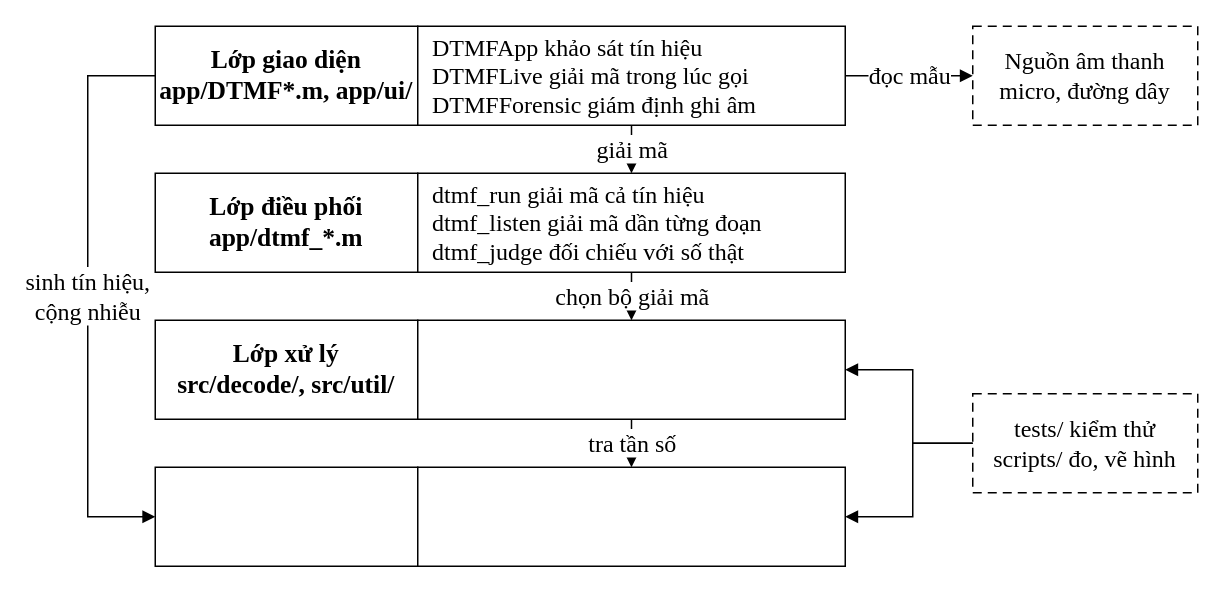
Some shapes in this 1224 by 593 pixel diagram are drawn without their labels. Each missing label, with the box of its shape:
Ba bộ giải mã FFT, Goertzel, lọc thông dải và các hàm dùng chung: (416, 319, 845, 419)
Bảng tần số, bộ phát, bộ cộng nhiễu: (416, 466, 845, 566)
Lớp dữ liệu src/gen/: (154, 466, 418, 566)
